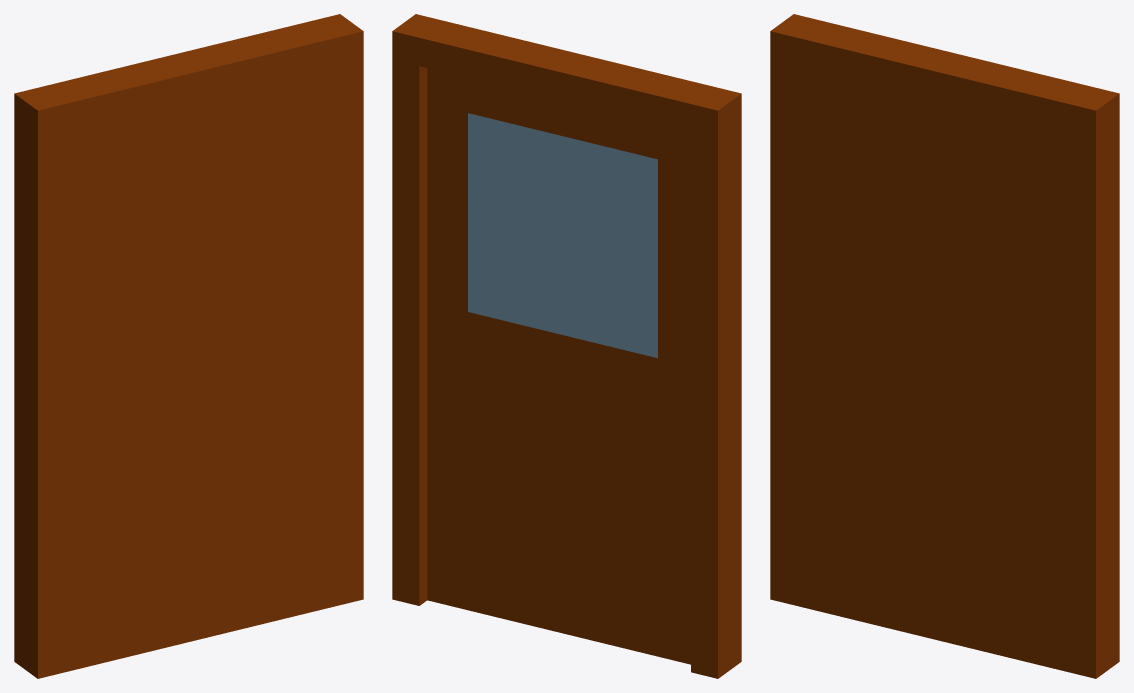
File: TopWindowDoor.fbx
3 views of the same model, side by side, from view 1: azimuth 30°, elevation 25°; view 2: azimuth 150°, elevation 25°; view 3: azimuth 330°, elevation 25° (orthographic).
Visible parts, largest first — view 1: TopWindowDoor; view 2: TopWindowDoor; view 3: TopWindowDoor.
Part boxes in pixels (x1=…): TopWindowDoor: x1=14, y1=14, x2=363, y2=678; TopWindowDoor: x1=392, y1=14, x2=741, y2=678; TopWindowDoor: x1=770, y1=14, x2=1119, y2=678.
Bounding box in the file's own units: 240 × 400 × 30.
